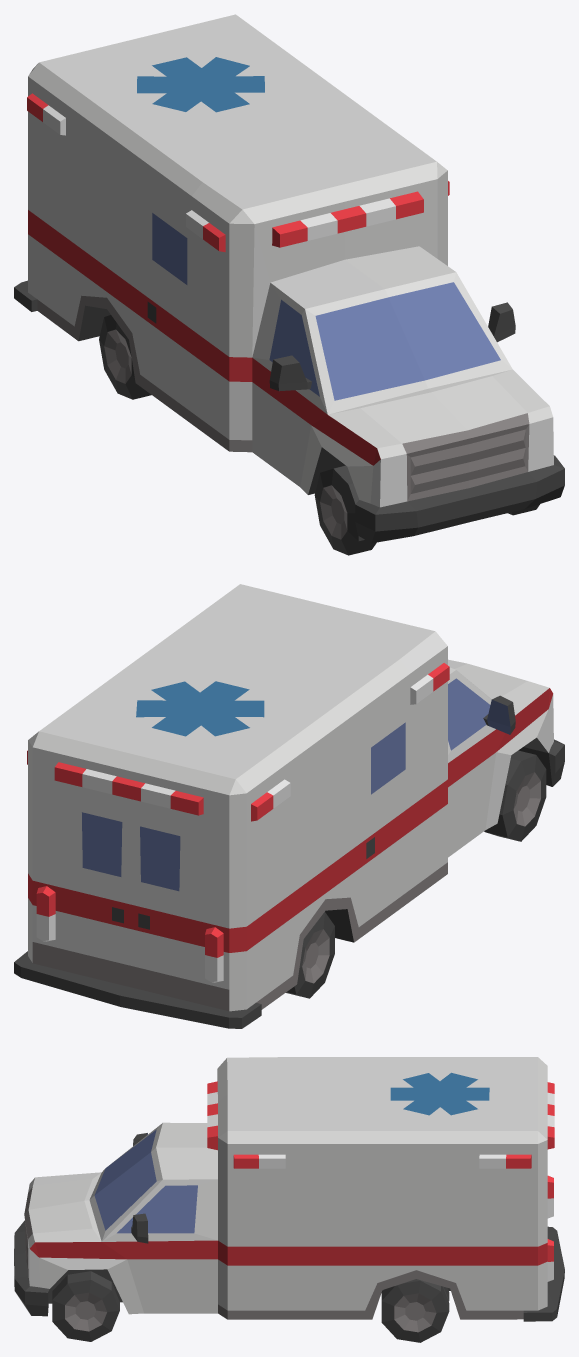
Rendered from vehicles-car-ambulance-pickup.glb.
3 views of the same model, one above another, from view 1: azimuth 30°, elevation 25°; view 2: azimuth 150°, elevation 25°; view 3: azimuth 270°, elevation 25° (orthographic). The views are drawn at different scales.
Parts seen in each view (by area): view 1: car-ambulance-pickup-base, car-ambulance-pickup-wheel_FR, car-ambulance-pickup-wheel_BR; view 2: car-ambulance-pickup-base, car-ambulance-pickup-wheel_FR, car-ambulance-pickup-wheel_BR; view 3: car-ambulance-pickup-base, car-ambulance-pickup-wheel_FL, car-ambulance-pickup-wheel_BL.
Boxes of the visible parts, x1,y1,x2,y2 form: car-ambulance-pickup-base: (14,14,564,543); car-ambulance-pickup-wheel_FR: (314,465,376,555); car-ambulance-pickup-wheel_BR: (99,315,151,399); car-ambulance-pickup-base: (14,584,564,1028); car-ambulance-pickup-wheel_FR: (484,750,546,841); car-ambulance-pickup-wheel_BR: (286,912,334,998); car-ambulance-pickup-base: (14,1057,564,1321); car-ambulance-pickup-wheel_FL: (52,1271,119,1341); car-ambulance-pickup-wheel_BL: (381,1279,449,1342).
Size of the model in its own units: 2.43 by 2.66 by 6.24.
